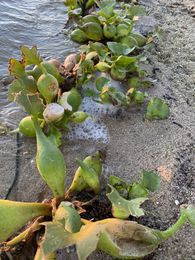water_hyacinth: (9, 0, 180, 260)
